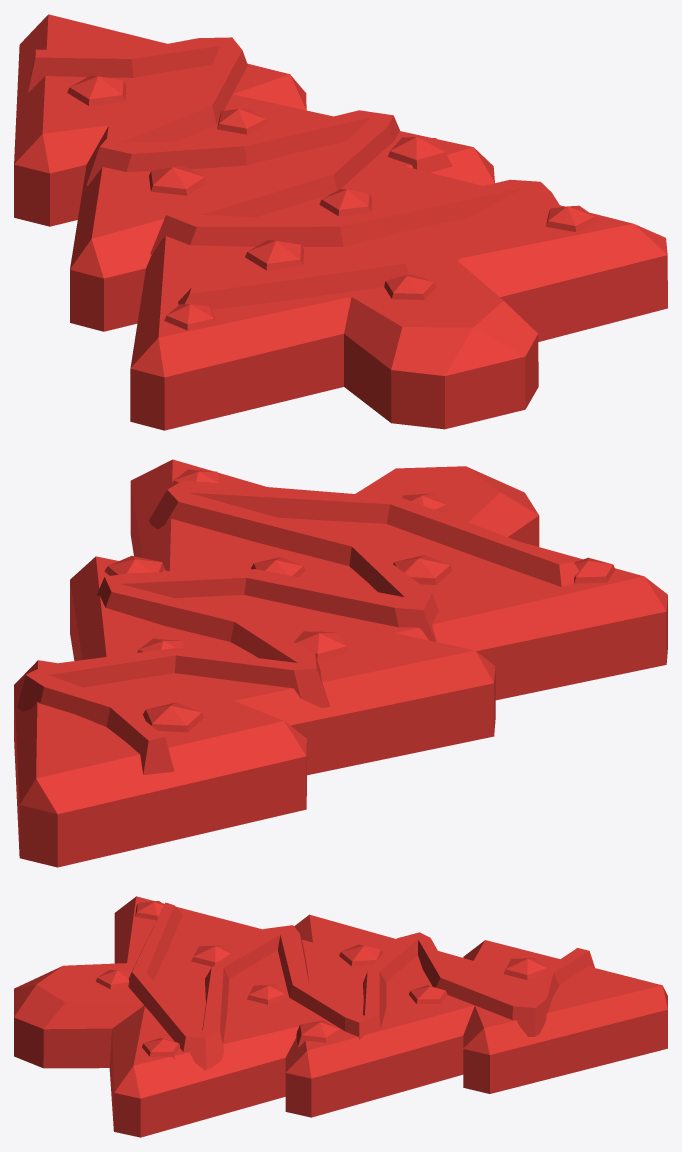
Rendered from SM_Gingerbread_Tree.fbx.
3 renders of one model, top to bottom at view 1: azimuth 30°, elevation 25°; view 2: azimuth 150°, elevation 25°; view 3: azimuth 270°, elevation 25°, orthographic. The views are drawn at different scales.
Parts seen in each view (by area): view 1: gingerbread-tree; view 2: gingerbread-tree; view 3: gingerbread-tree.
Part boxes in pixels (x1,y1,x2,y2): gingerbread-tree: (14, 14, 667, 430); gingerbread-tree: (14, 459, 667, 867); gingerbread-tree: (14, 896, 667, 1137).
Size of the model in its own units: 0.0691 by 0.0119 by 0.0997.
